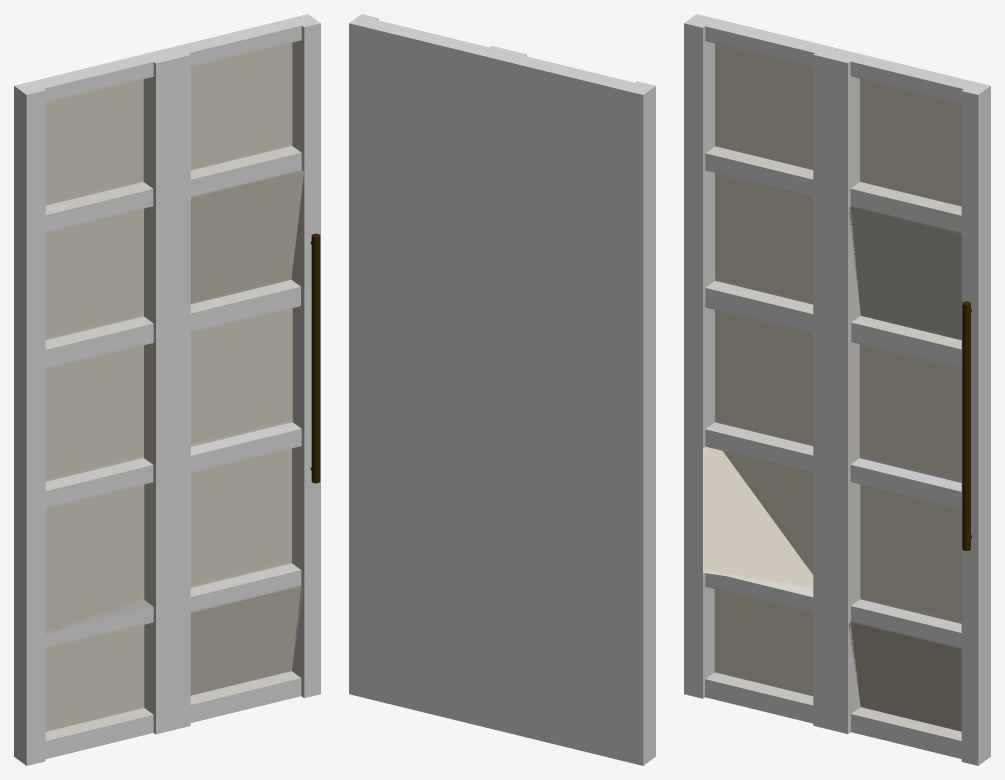
Rendered from wardrobe door.fbx.
3 views of the same model, side by side, from view 1: azimuth 30°, elevation 25°; view 2: azimuth 150°, elevation 25°; view 3: azimuth 330°, elevation 25° (orthographic).
Parts seen in each view (by area): view 1: wardrobe, handle; view 2: wardrobe; view 3: wardrobe, handle.
Part boxes in pixels (<box>): wardrobe: <box>14,14,320,765</box>; handle: <box>311,233,320,483</box>; wardrobe: <box>349,14,655,765</box>; wardrobe: <box>684,14,990,765</box>; handle: <box>962,301,970,550</box>.
Size of the model in its own units: 9.89 by 21.54 by 1.06.
